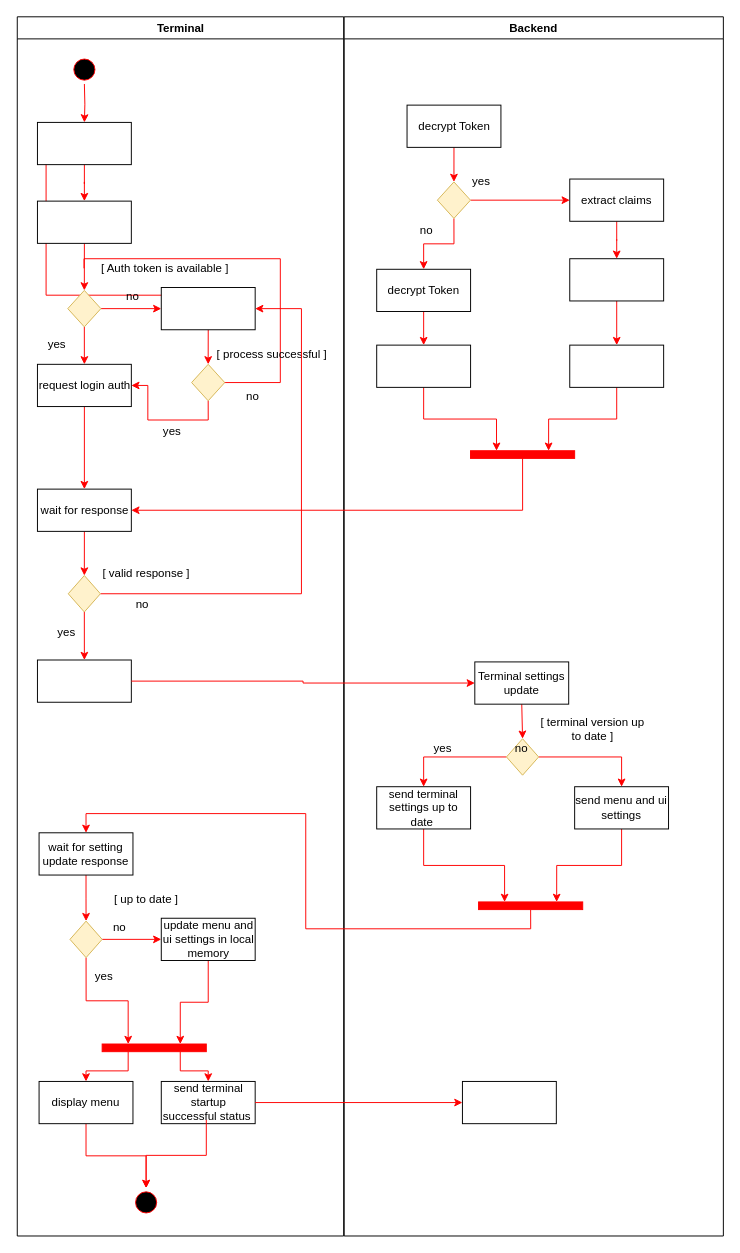
Image size: 740x1253. Some labels were removed from this diagram. Each missing label, with the centre of its shape:
"application starting up" goes at pixel 83 143.
"check for token" goes at pixel 83 221.
"get terminal settings version" goes at pixel 83 680.
"get user info" goes at pixel 616 279.
"prompt user for login credentials" goes at pixel 207 308.
"send token not vaild response" goes at pixel 423 365.
"send user log in valid response" goes at pixel 616 365.
"terminal startup complete" goes at pixel 508 1102.
